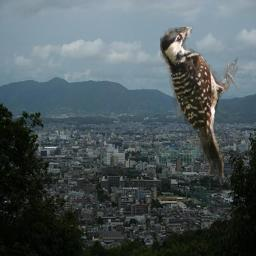Woodpecker: (160, 27, 238, 181)
